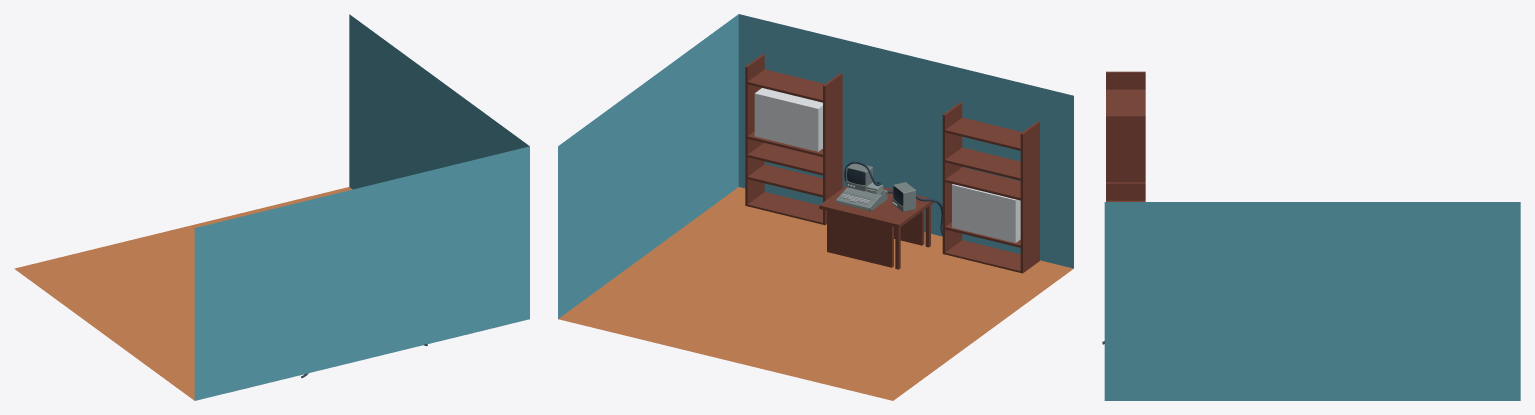
Rendered from vvvtled.fbx.
3 views of the same model, side by side, from view 1: azimuth 30°, elevation 25°; view 2: azimuth 150°, elevation 25°; view 3: azimuth 270°, elevation 25° (orthographic). The views are drawn at different scales.
Parts seen in each view (by area): view 1: Cube.005; view 2: Cube.005; view 3: Cube.005.
Part boxes in pixels (box(x1,y1,x2,y2)): Cube.005: box(14, 14, 529, 400); Cube.005: box(558, 14, 1073, 400); Cube.005: box(1102, 71, 1520, 400).
Size of the model in its own units: 838 by 424 by 788.
Materials: 1 (1 with a texture image).
